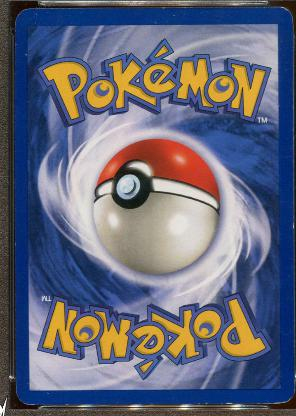Card: (11, 5, 293, 408)
Corner Wear: (269, 383, 294, 405), (15, 382, 36, 406), (278, 5, 291, 17)
Edge Wear: (290, 102, 292, 156), (193, 402, 234, 404), (159, 6, 194, 8), (14, 40, 15, 104), (291, 338, 293, 356), (290, 214, 292, 230), (14, 241, 16, 247), (141, 404, 163, 404), (63, 404, 70, 404)
Scratch: (29, 12, 38, 26), (24, 52, 26, 56)
